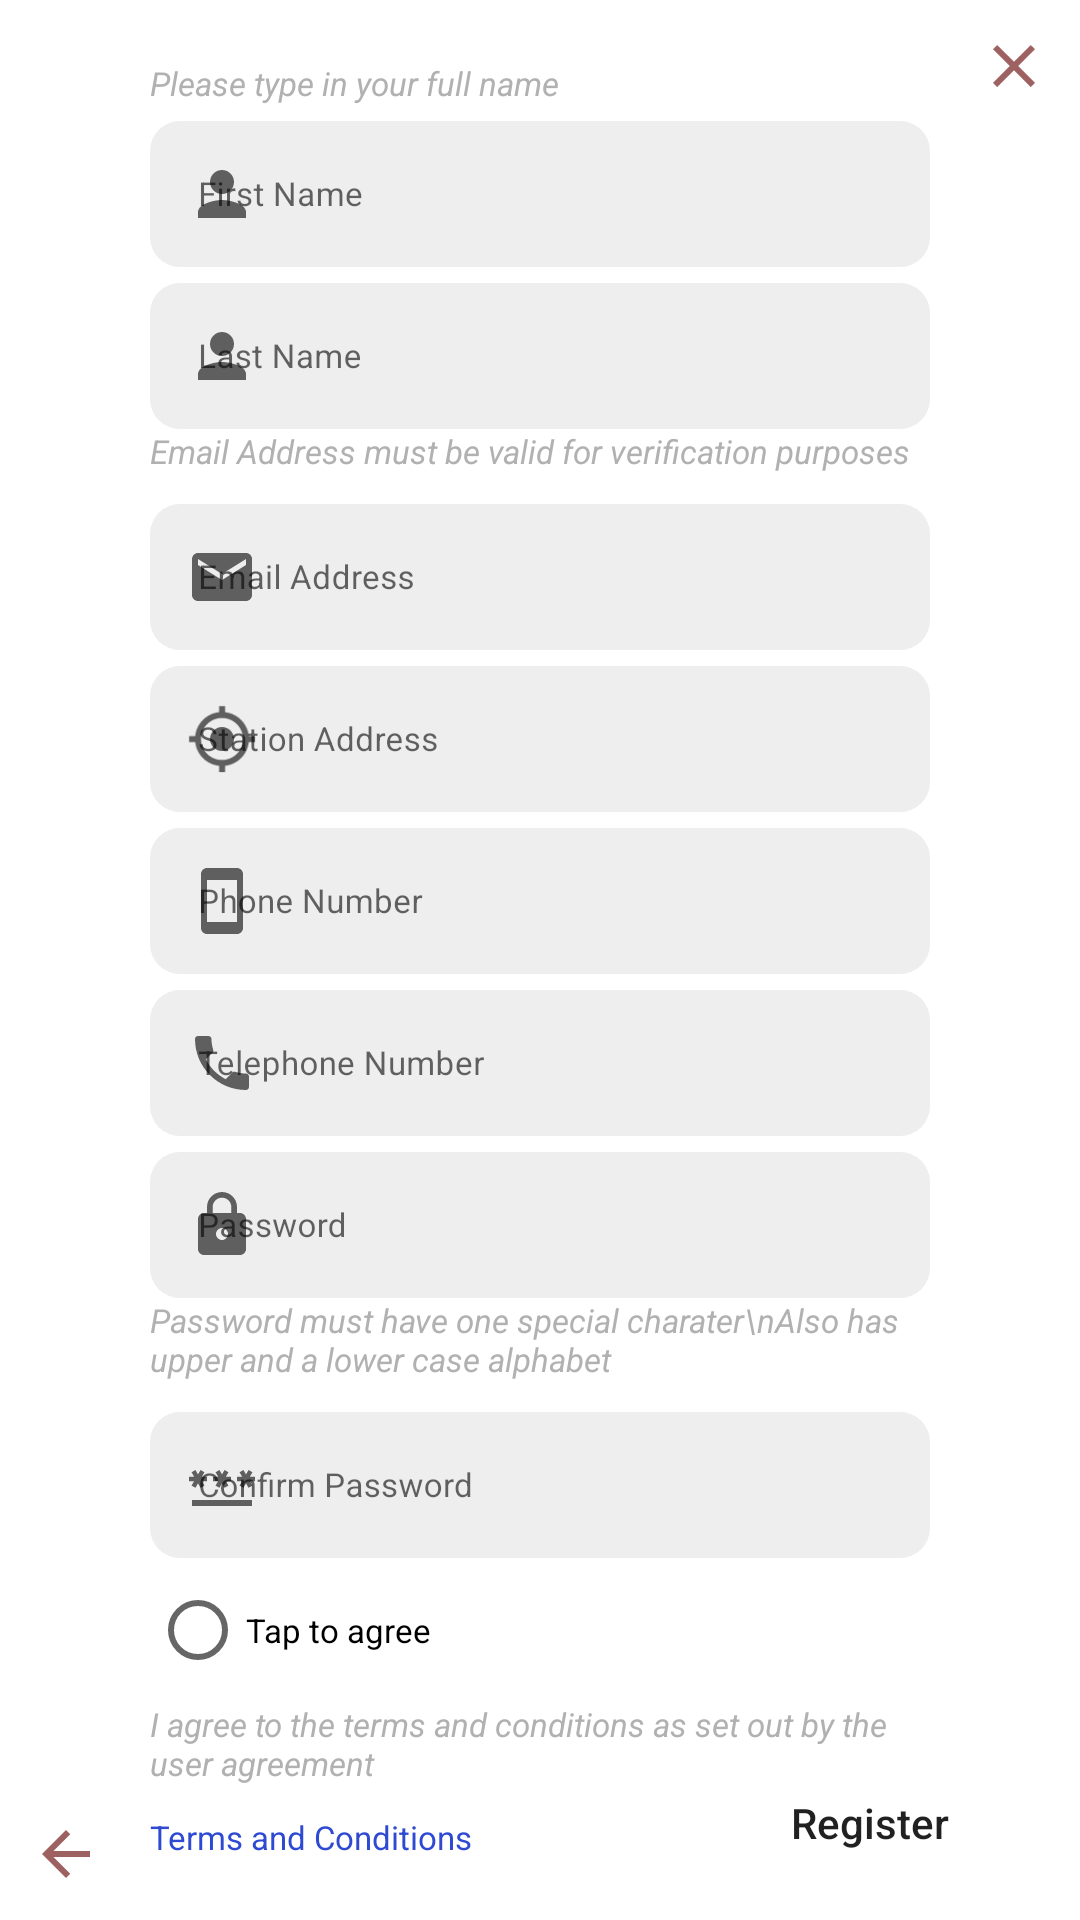

Icons on this 1080*1920 Android screen, each with the point to tap as [x,y]:
arrow back: [66,1854]
close: [1014,66]
